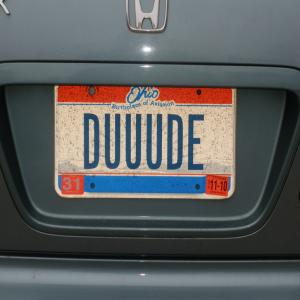Vehicle-registration-plate: (54, 85, 237, 198)
